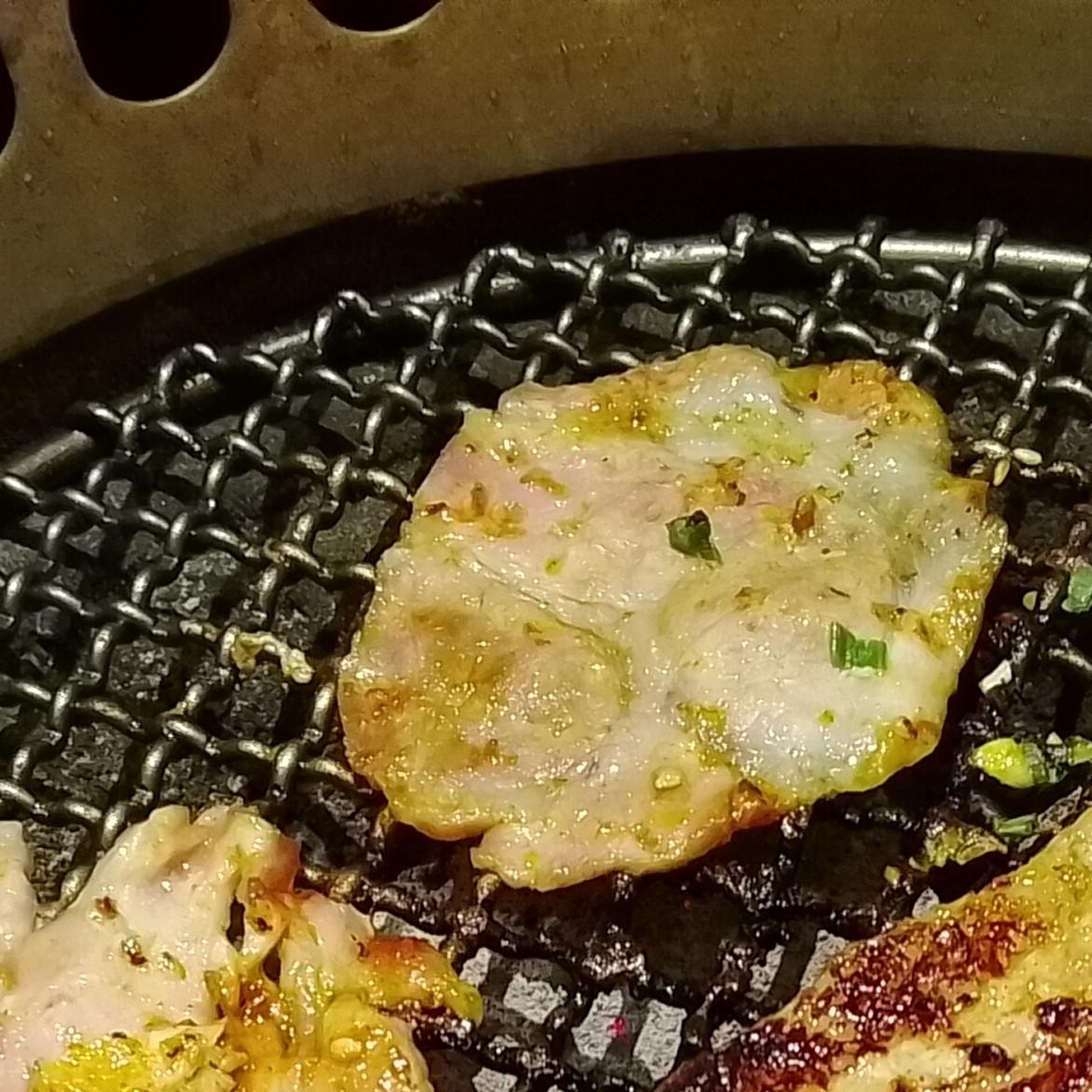Overcooked: (656, 821, 1091, 1091)
Well-Cooked: (334, 346, 1007, 895), (0, 808, 475, 1091)
